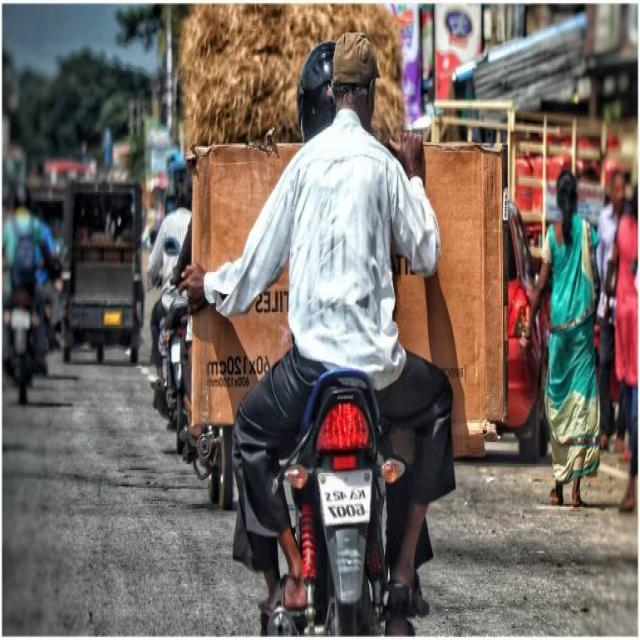motorcycle: (181, 33, 455, 637)
